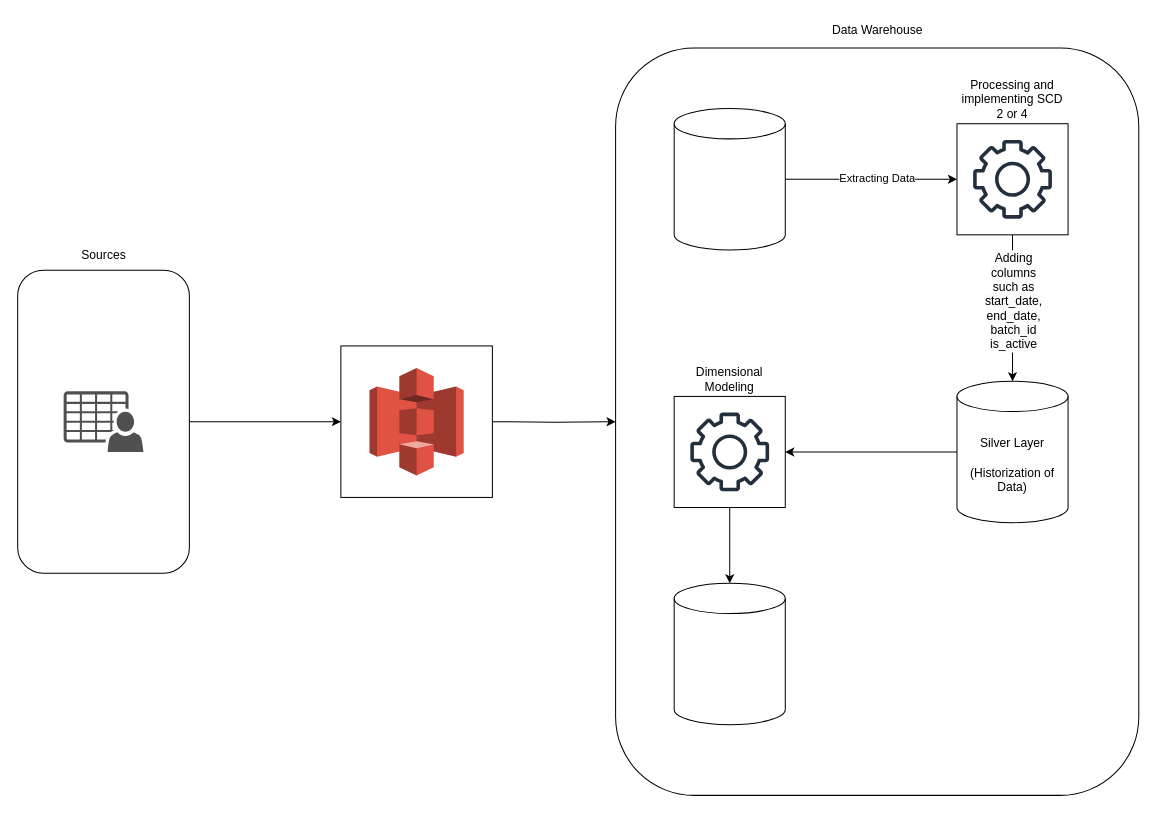
This 1156x813 diagram has some shape labels left out. The shapes that lost their labels are listed below. From the top down, each one's centre as x and y in pixels, then its label:
(729,179): Bronze Layer (Raw Data)
(729,653): Gold Layer (Dimensional Model)
